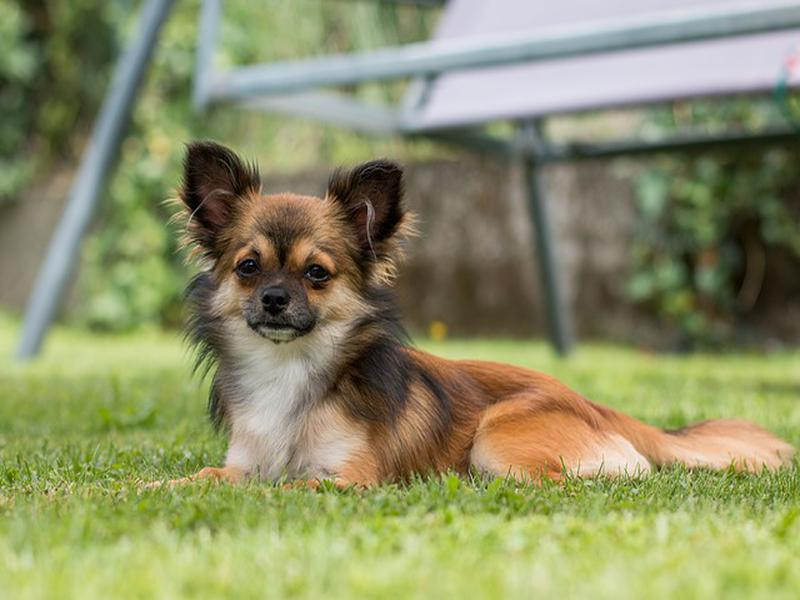dog_down: (166, 140, 798, 504)
